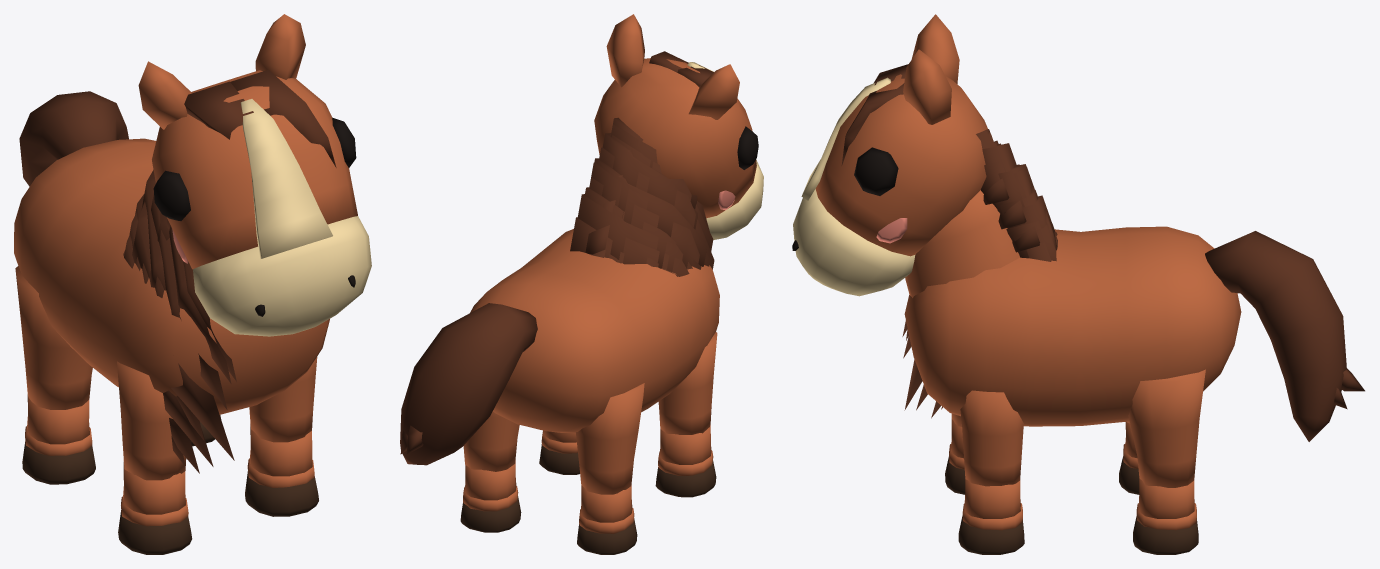
File: horse-idle.glb
3 renders of one model, left to right at view 1: azimuth 30°, elevation 25°; view 2: azimuth 150°, elevation 25°; view 3: azimuth 270°, elevation 25°, orthographic. The views are drawn at different scales.
Parts seen in each view (by area): view 1: body, head, muzzle, mane, blaze, tail, leg_hr_upper, leg_fr_upper, forelock, leg_fl_upper, ear_l, ear_r (+10 smaller); view 2: body, mane, tail, head, leg_hr_upper, leg_fr_upper, leg_hl_upper, ear_l, ear_r, muzzle, leg_fr_lower, leg_hl_lower (+10 smaller); view 3: body, head, tail, leg_hl_upper, muzzle, mane, neck, leg_fl_upper, ear_l, leg_fl_lower, leg_hl_lower, leg_hl_hoof (+7 smaller).
Part boxes in pixels (left/top/right/bottom): body: left=14, top=138, right=329, bottom=414; head: left=152, top=70, right=357, bottom=269; muzzle: left=193, top=216, right=371, bottom=336; mane: left=123, top=170, right=236, bottom=473; blaze: left=240, top=99, right=332, bottom=259; tail: left=19, top=91, right=128, bottom=186; leg_hr_upper: left=15, top=266, right=92, bottom=409; leg_fr_upper: left=117, top=361, right=186, bottom=480; forelock: left=184, top=69, right=336, bottom=167; leg_fl_upper: left=249, top=357, right=317, bottom=442; ear_l: left=255, top=14, right=305, bottom=79; ear_r: left=138, top=61, right=191, bottom=129; body: left=470, top=229, right=719, bottom=432; mane: left=570, top=117, right=714, bottom=276; tail: left=400, top=303, right=537, bottom=465; head: left=594, top=58, right=756, bottom=218; leg_hr_upper: left=576, top=383, right=644, bottom=494; leg_fr_upper: left=658, top=332, right=717, bottom=434; leg_hl_upper: left=463, top=411, right=519, bottom=471; ear_l: left=606, top=14, right=644, bottom=87; ear_r: left=688, top=64, right=739, bottom=119; muzzle: left=706, top=159, right=763, bottom=239; leg_fr_lower: left=659, top=425, right=711, bottom=464; leg_hl_lower: left=464, top=460, right=516, bottom=500; body: left=904, top=226, right=1241, bottom=426; head: left=815, top=74, right=987, bottom=256; tail: left=1205, top=231, right=1364, bottom=441; leg_hl_upper: left=1128, top=369, right=1205, bottom=487; muzzle: left=793, top=189, right=915, bottom=296; mane: left=902, top=129, right=1057, bottom=418; neck: left=905, top=190, right=1019, bottom=297; leg_fl_upper: left=960, top=390, right=1023, bottom=486; ear_l: left=903, top=49, right=951, bottom=124; leg_fl_lower: left=964, top=479, right=1020, bottom=518; leg_hl_lower: left=1138, top=478, right=1194, bottom=518; leg_hl_hoof: left=1133, top=516, right=1198, bottom=554.
Size of the model in its own units: 0.9767 by 2.33 by 2.54.
